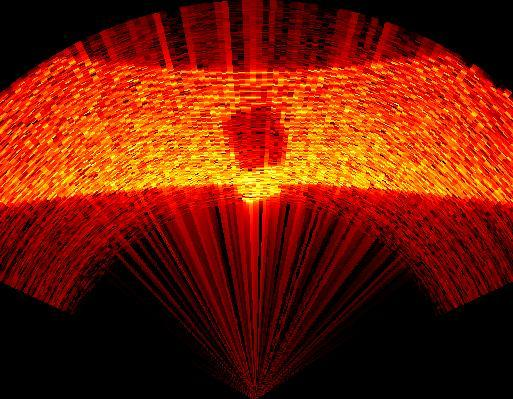box_crate: (225, 105, 290, 202)
